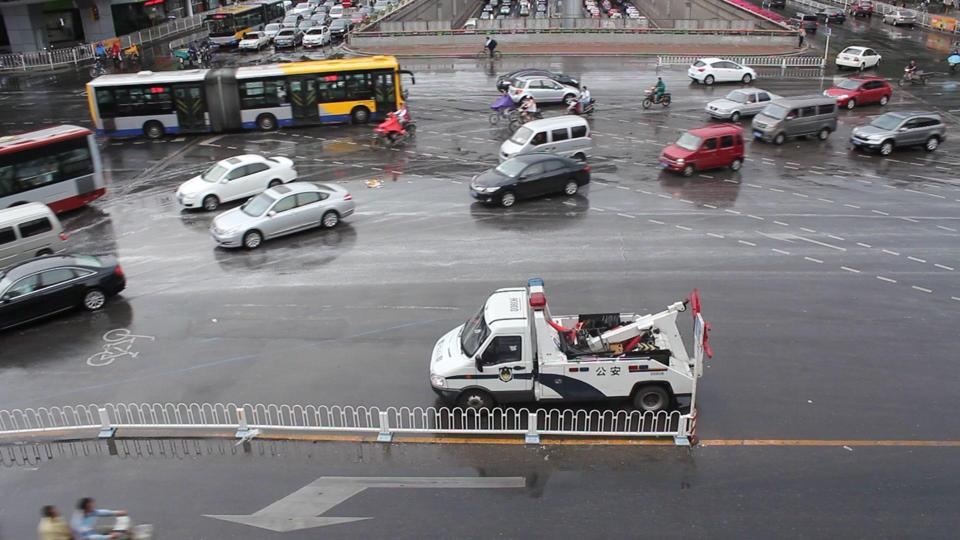Bus: (89, 55, 404, 138), (1, 124, 105, 222)
Car: (1, 253, 128, 333), (212, 183, 352, 246), (176, 153, 296, 208), (468, 153, 591, 202), (659, 125, 743, 172), (849, 111, 943, 153), (324, 73, 408, 103), (706, 87, 784, 118), (496, 67, 579, 95), (506, 76, 579, 107), (822, 75, 890, 106), (687, 57, 757, 84), (834, 46, 881, 68)
Minivan: (1, 201, 68, 277), (497, 117, 590, 162), (752, 97, 836, 141)
Truck: (429, 277, 711, 417)
